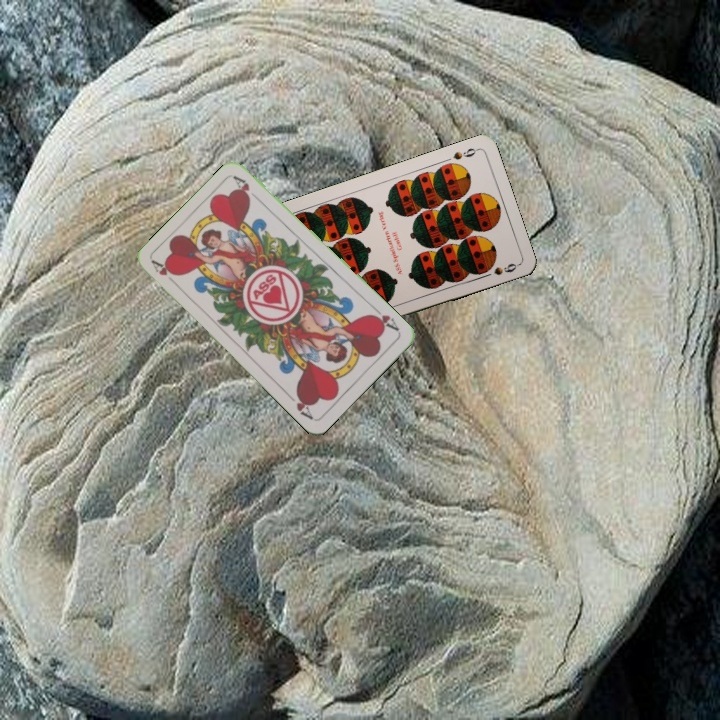HA: (366, 302, 402, 334), (148, 257, 181, 289)
S9: (449, 144, 481, 162)
